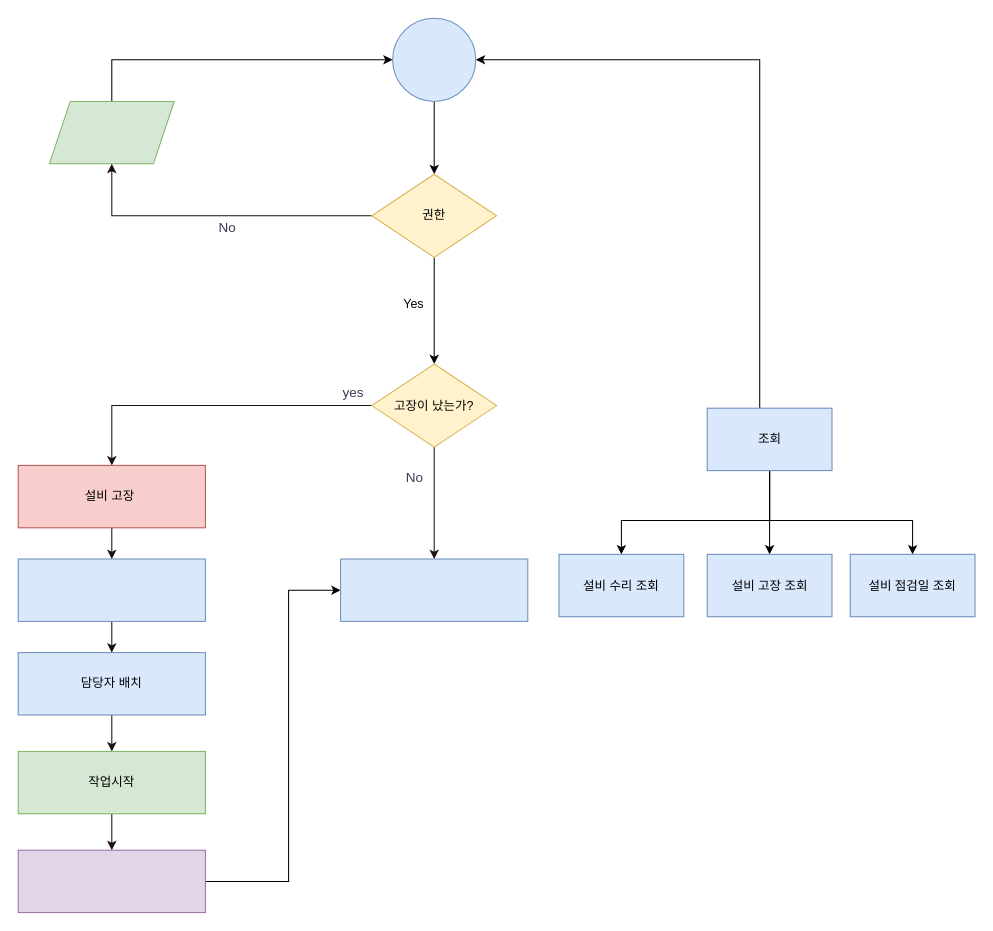
Image size: 993x931. Some labels were removed from this diagram. The centre of each missing label's shape, as x and y in pixels:
"403 forbidden" belongs at (111,132).
"설비 수리 작업" belongs at (111,589).
"설비 정기점검" belongs at (434,589).
"설비관리" belongs at (434,59).
"수리 완료" belongs at (111,881).
